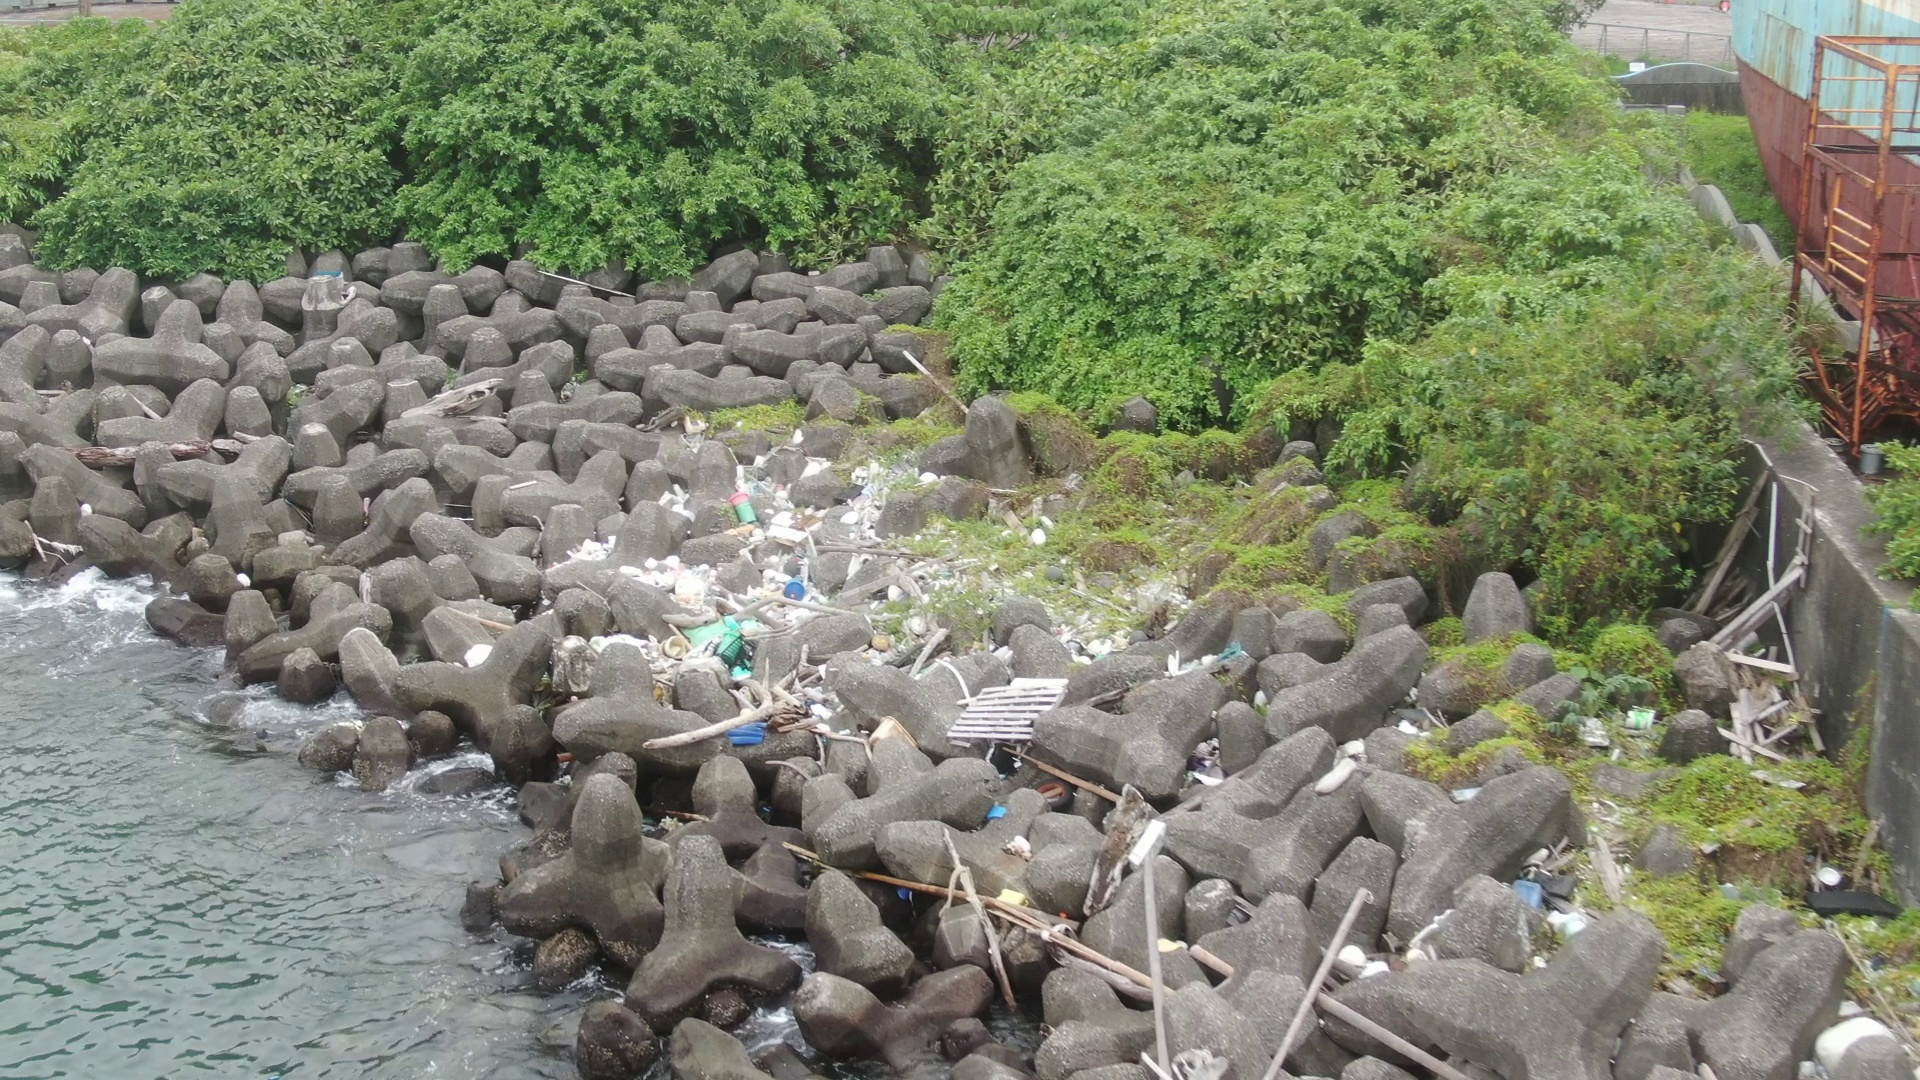garbage: (535, 435, 1075, 749), (884, 779, 1215, 994), (1159, 636, 1291, 779), (1317, 905, 1458, 988), (1513, 829, 1592, 934), (1127, 1031, 1254, 1080), (1803, 865, 1903, 919), (1571, 698, 1664, 749), (1320, 727, 1373, 806)
